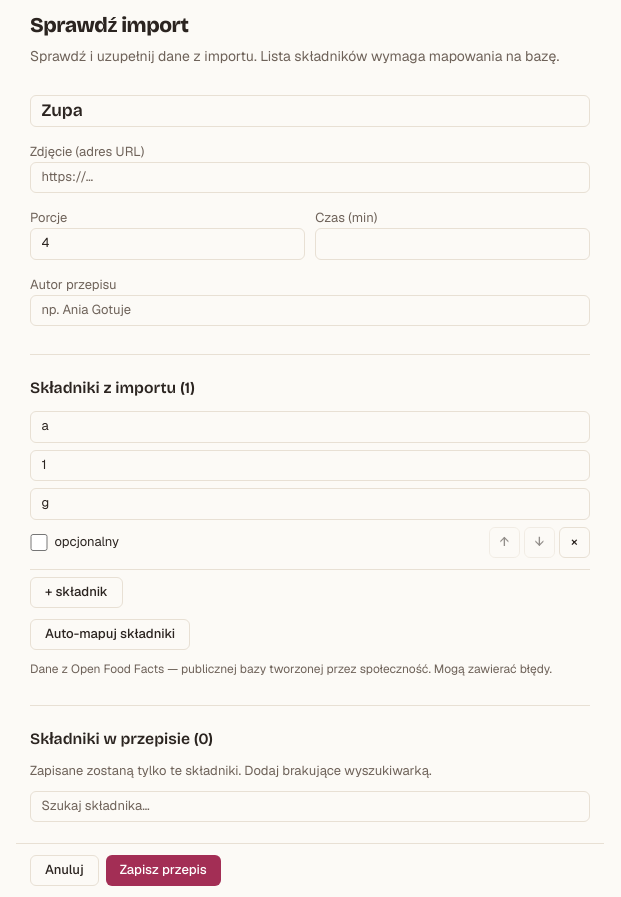
Test: ImportReviewForm auto-match outcome › shows a Polish error when matching fails
Click the button "Auto-mapuj składniki" at (110, 634), box [30,618,190,650]
(page scrolled)
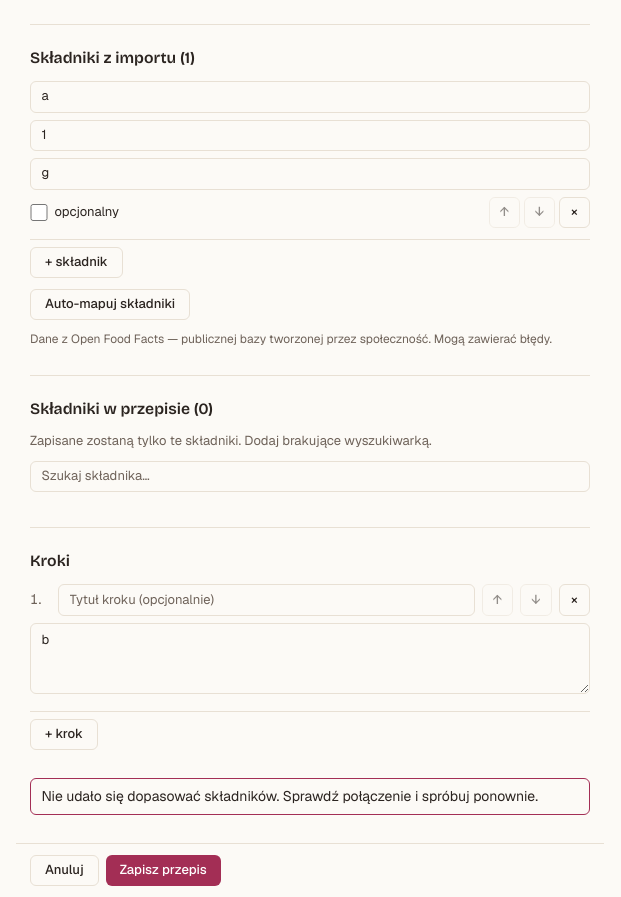
Now the message shows "Nie udało się dopasować składników", box [42,787,538,805]
